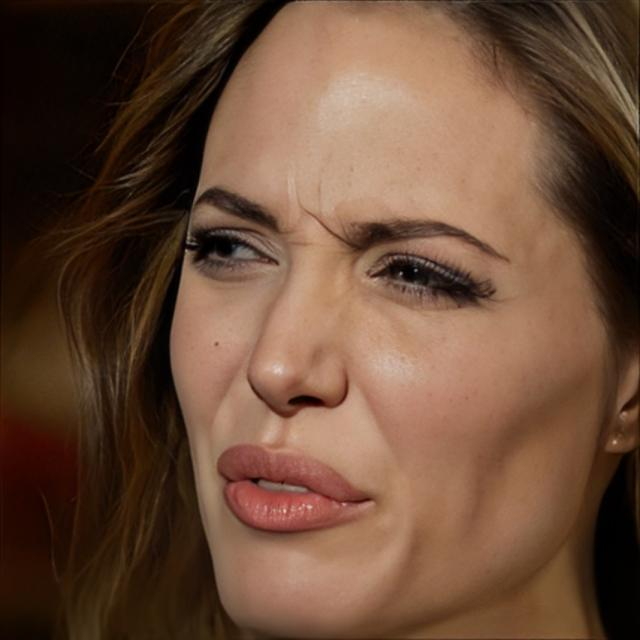disgust: (166, 1, 602, 640)
